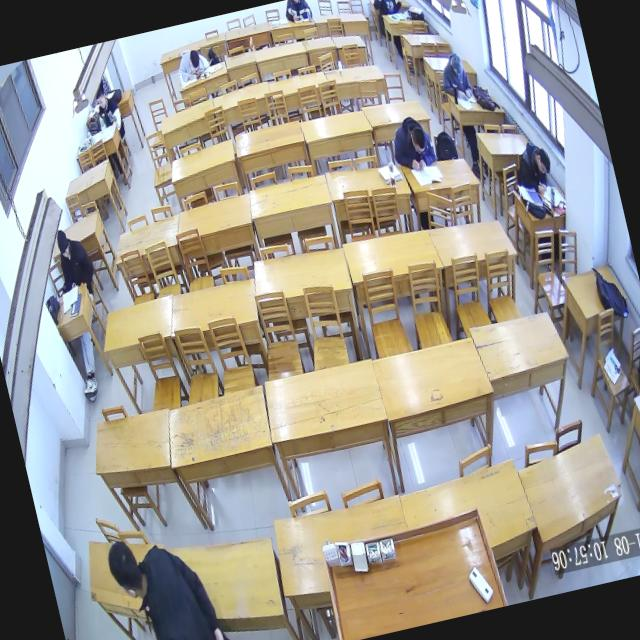bow: (172, 44, 212, 84)
down: (52, 225, 74, 262), (532, 145, 554, 178), (408, 124, 429, 156), (448, 49, 466, 78), (186, 46, 203, 71), (93, 88, 109, 111)
sit: (49, 222, 98, 294), (385, 110, 438, 176), (509, 136, 558, 200), (435, 48, 475, 104), (90, 84, 124, 132), (368, 0, 405, 18)
